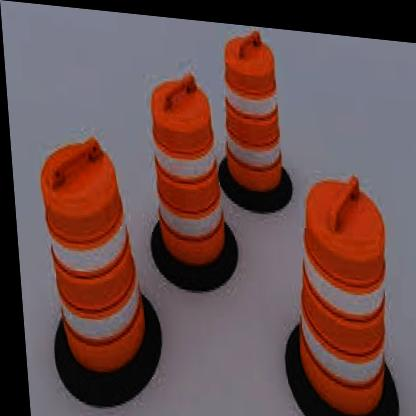obstacle: (31, 123, 145, 382), (282, 159, 397, 414), (147, 62, 224, 267), (220, 23, 284, 188)
